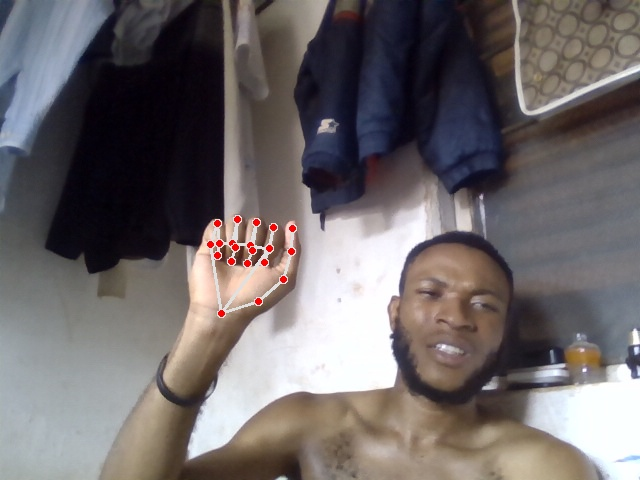number0: (188, 213, 303, 324)
